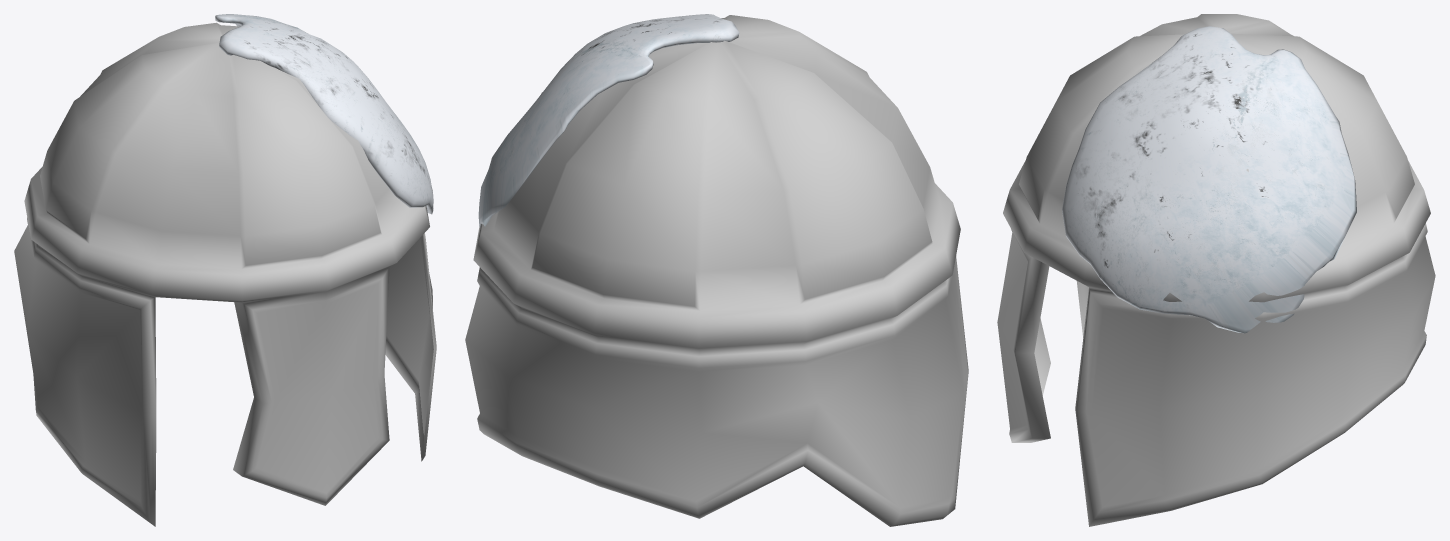
The model's file is helm1.fbx.
The picture shows the model from 3 angles, left to right: view 1: azimuth 30°, elevation 25°; view 2: azimuth 150°, elevation 25°; view 3: azimuth 270°, elevation 25°; orthographic projection. The views are drawn at different scales.
Parts seen in each view (by area): view 1: Helmet1, Snow helm1; view 2: Helmet1, Snow helm1; view 3: Helmet1, Snow helm1.
Part boxes in pixels (left/top/right/bottom): Helmet1: left=14, top=22, right=436, bottom=526; Snow helm1: left=215, top=14, right=433, bottom=214; Helmet1: left=465, top=15, right=968, bottom=526; Snow helm1: left=478, top=14, right=739, bottom=227; Helmet1: left=997, top=14, right=1435, bottom=526; Snow helm1: left=1062, top=26, right=1356, bottom=333.
Size of the model in its own units: 18.96 by 20.84 by 19.16.
